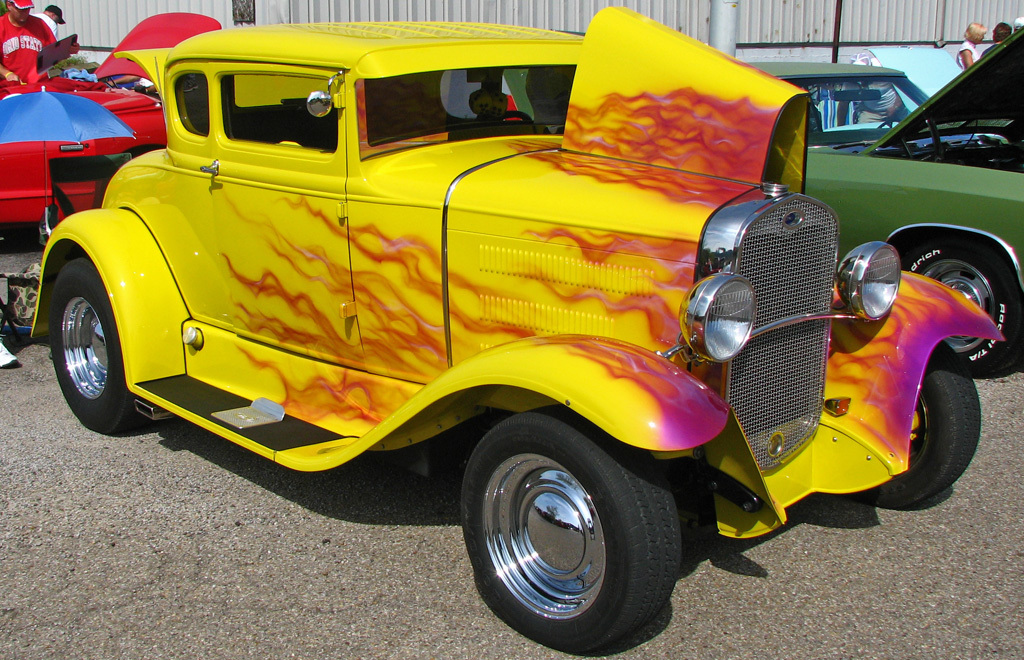mobil: (104, 57, 1005, 575)
